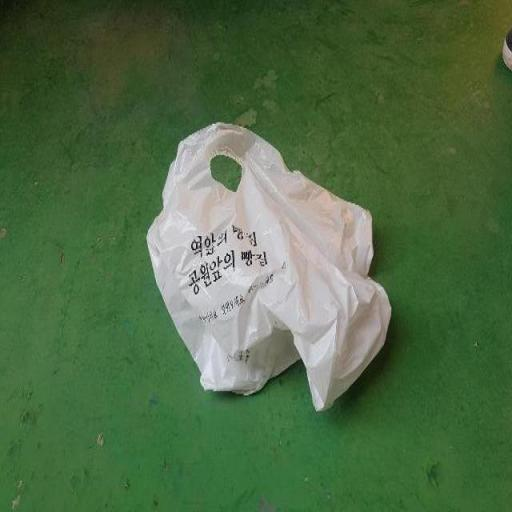plastic-bag: (140, 116, 392, 414)
